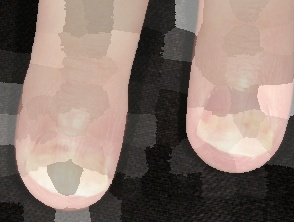Nail_psoriasis: (19, 137, 115, 196), (198, 102, 280, 156)
